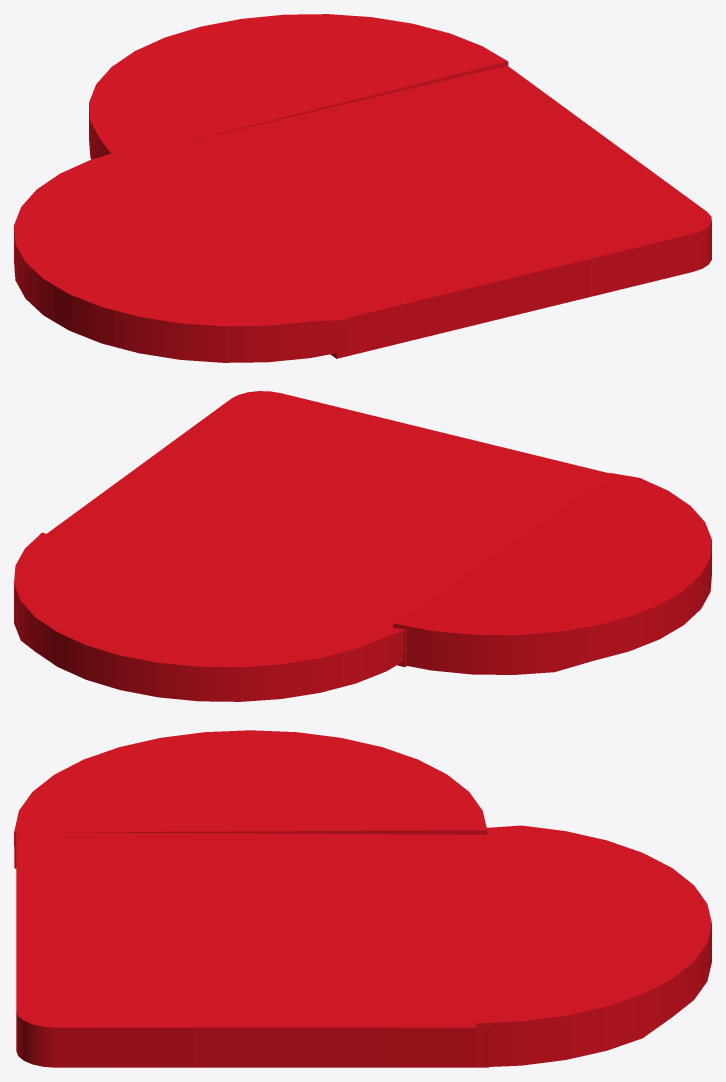
The model's file is heart.fbx.
3 renders of one model, top to bottom at view 1: azimuth 30°, elevation 25°; view 2: azimuth 150°, elevation 25°; view 3: azimuth 270°, elevation 25°, orthographic. The views are drawn at different scales.
Parts seen in each view (by area): view 1: Circle.002; view 2: Circle.002; view 3: Circle.002.
Part boxes in pixels (box(x1,y1,x2,y2)): Circle.002: box(14, 14, 711, 362); Circle.002: box(14, 391, 711, 701); Circle.002: box(14, 730, 711, 1067).
Size of the model in its own units: 293 by 20.82 by 295.
